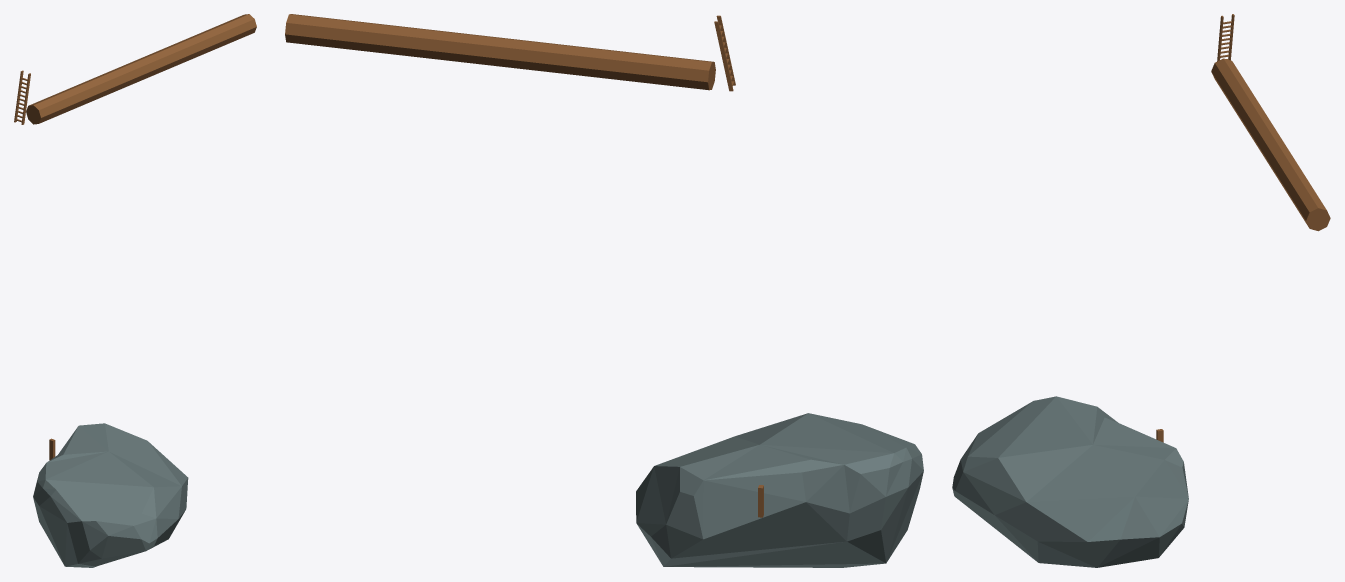
The picture shows the model from 3 angles, left to right: view 1: azimuth 30°, elevation 25°; view 2: azimuth 150°, elevation 25°; view 3: azimuth 270°, elevation 25°; orthographic projection. The views are drawn at different scales.
Visible parts, largest first — view 1: Box149_rock_0, Cylinder1440_brown_0, Box354_brown_0; view 2: Box149_rock_0, Cylinder1440_brown_0; view 3: Box149_rock_0, Cylinder1440_brown_0.
Boxes of the visible parts, x1,y1,x2,y2 form: Box149_rock_0: [33, 423, 188, 567]; Cylinder1440_brown_0: [26, 14, 256, 124]; Box354_brown_0: [14, 70, 30, 124]; Box149_rock_0: [636, 413, 923, 567]; Cylinder1440_brown_0: [285, 14, 715, 90]; Box149_rock_0: [952, 396, 1188, 567]; Cylinder1440_brown_0: [1211, 58, 1330, 231].
Bounding box in the file's own units: 2118 × 2732 × 1787.
